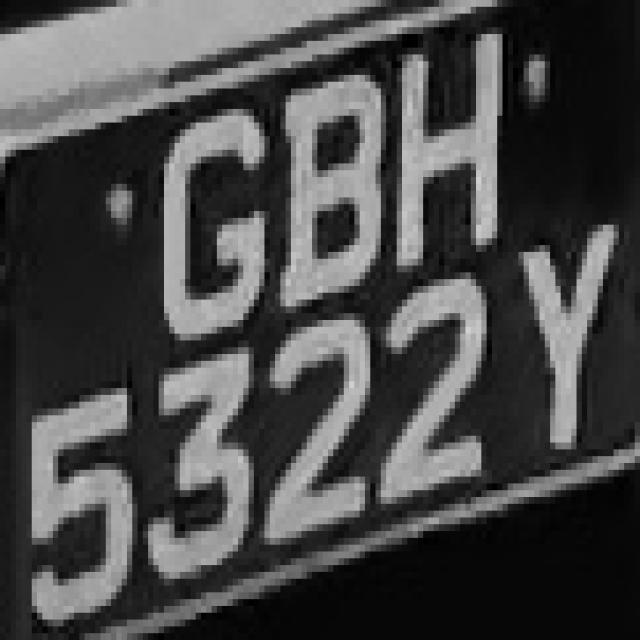2: (365, 272, 502, 524), (248, 327, 380, 551)
3: (132, 354, 270, 586)
5: (11, 388, 138, 640)
B: (264, 61, 396, 313)
G: (153, 88, 264, 361)
H: (376, 20, 508, 259)
Y: (513, 211, 629, 483)
